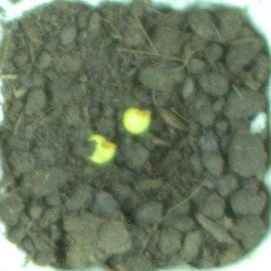chilli seed: (85, 131, 118, 165), (121, 106, 153, 135)
